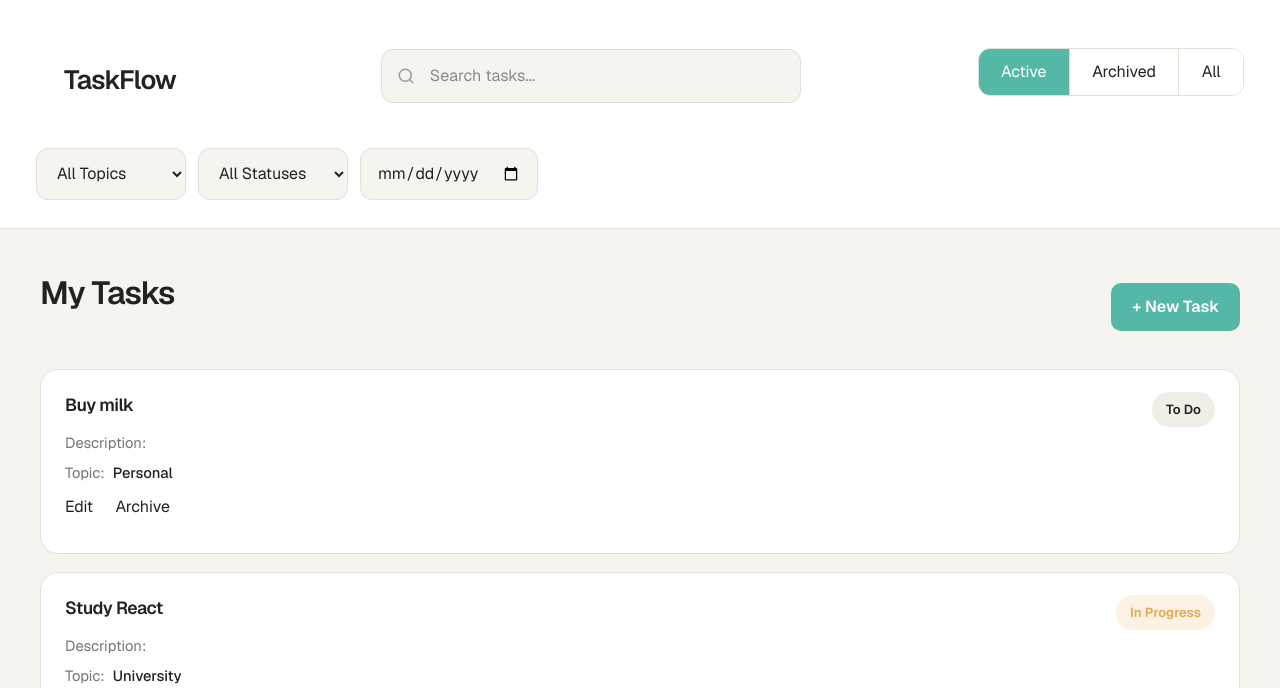
Test case: TaskFlow UI Tests › filters tasks using the search box
The image size is (1280, 688).
Type "React" into the field with placeholder "Search tasks...".
click(591, 76); type("React")  # box [381,49,801,103]
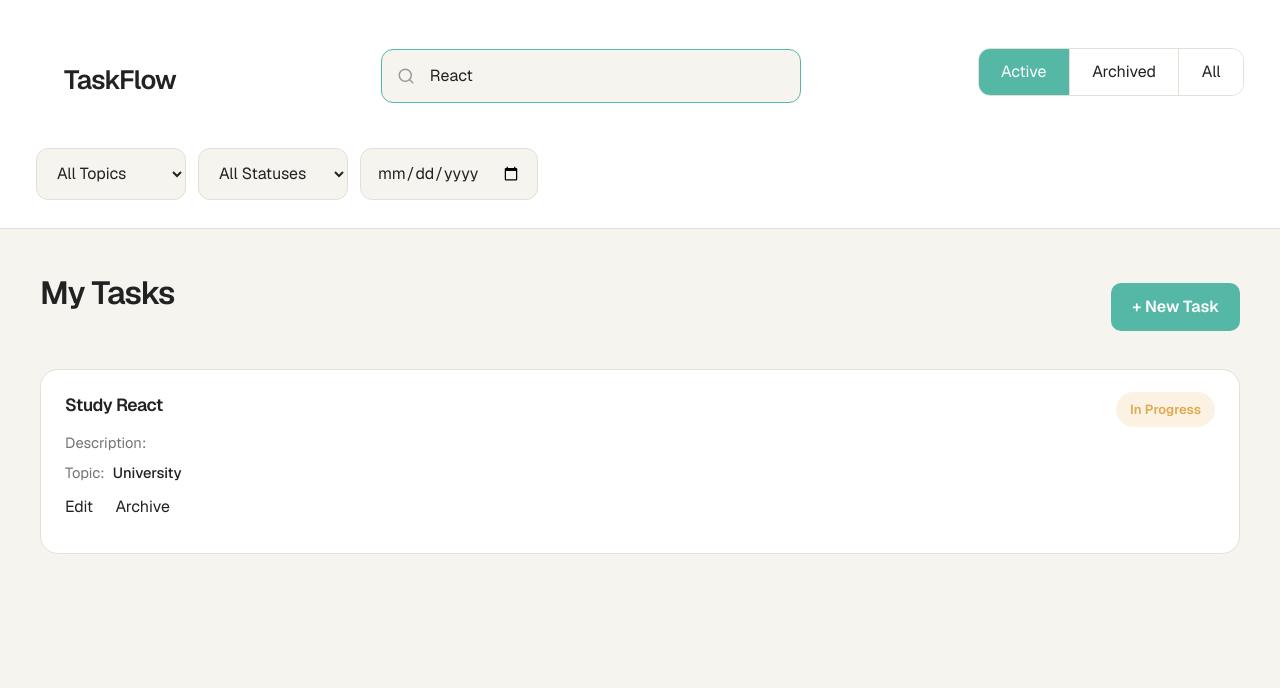
Expected: the heading "Study React" is shown, [65,393,163,416]
Expected: the heading "Buy milk" is gone
